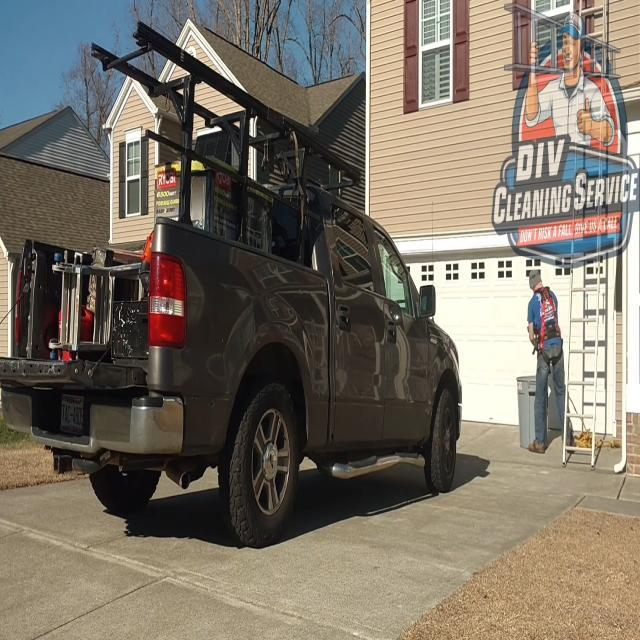belt: (532, 284, 564, 368)
